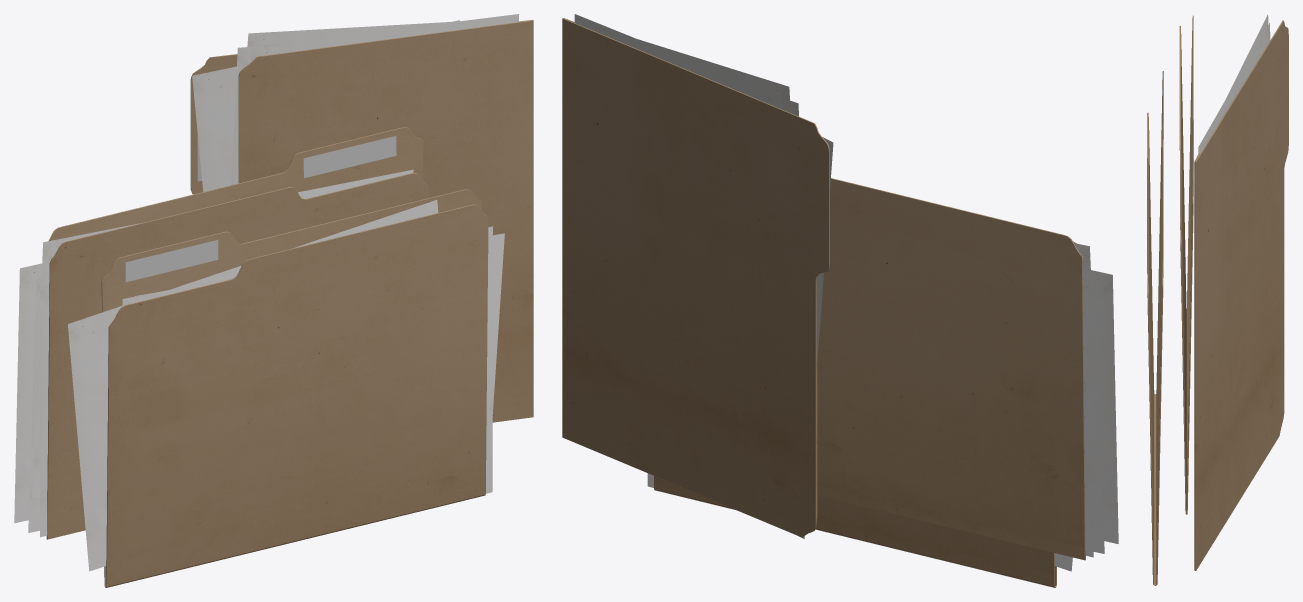
The model's file is File_Folders_Thikness.obj.
3 views of the same model, side by side, from view 1: azimuth 30°, elevation 25°; view 2: azimuth 150°, elevation 25°; view 3: azimuth 270°, elevation 25° (orthographic). The views are drawn at different scales.
Visible parts, largest first — view 1: Folder_Left, Folder_Top, Folder_Right, Paper.4_2, Paper.4, Paper.4_1, Paper, Paper.2_1, Paper_1, Folder_Name_2, Folder_Name_1, Paper.3 (+4 smaller); view 2: Folder_Top, Folder_Right, Folder_Left, Paper.4_1, Paper.3, Paper.4; view 3: Folder_Top, Folder_Left, Folder_Right, Paper.3, Paper.4.
Boxes of the visible parts, left/top/right/bottom form: Folder_Left: left=101, top=189, right=488, bottom=587; Folder_Top: left=190, top=19, right=533, bottom=422; Folder_Right: left=46, top=127, right=428, bottom=539; Paper.4_2: left=68, top=200, right=438, bottom=571; Paper.4: left=192, top=20, right=459, bottom=191; Paper.4_1: left=14, top=263, right=41, bottom=523; Paper: left=250, top=14, right=518, bottom=62; Paper.2_1: left=32, top=169, right=413, bottom=498; Paper_1: left=40, top=281, right=49, bottom=537; Folder_Name_2: left=125, top=240, right=218, bottom=282; Folder_Name_1: left=303, top=136, right=396, bottom=178; Paper.3: left=247, top=21, right=455, bottom=46; Folder_Top: left=562, top=18, right=829, bottom=537; Folder_Right: left=817, top=178, right=1085, bottom=560; Folder_Left: left=654, top=476, right=1056, bottom=587; Paper.4_1: left=1082, top=268, right=1118, bottom=543; Paper.3: left=576, top=20, right=790, bottom=112; Paper.4: left=619, top=33, right=833, bottom=538; Folder_Top: left=1194, top=20, right=1288, bottom=570; Folder_Left: left=1147, top=71, right=1163, bottom=585; Folder_Right: left=1179, top=15, right=1193, bottom=514; Paper.3: left=1200, top=14, right=1268, bottom=153; Paper.4: left=1215, top=67, right=1253, bottom=129.
Bounding box in the file's own units: 1018 × 867 × 232.
